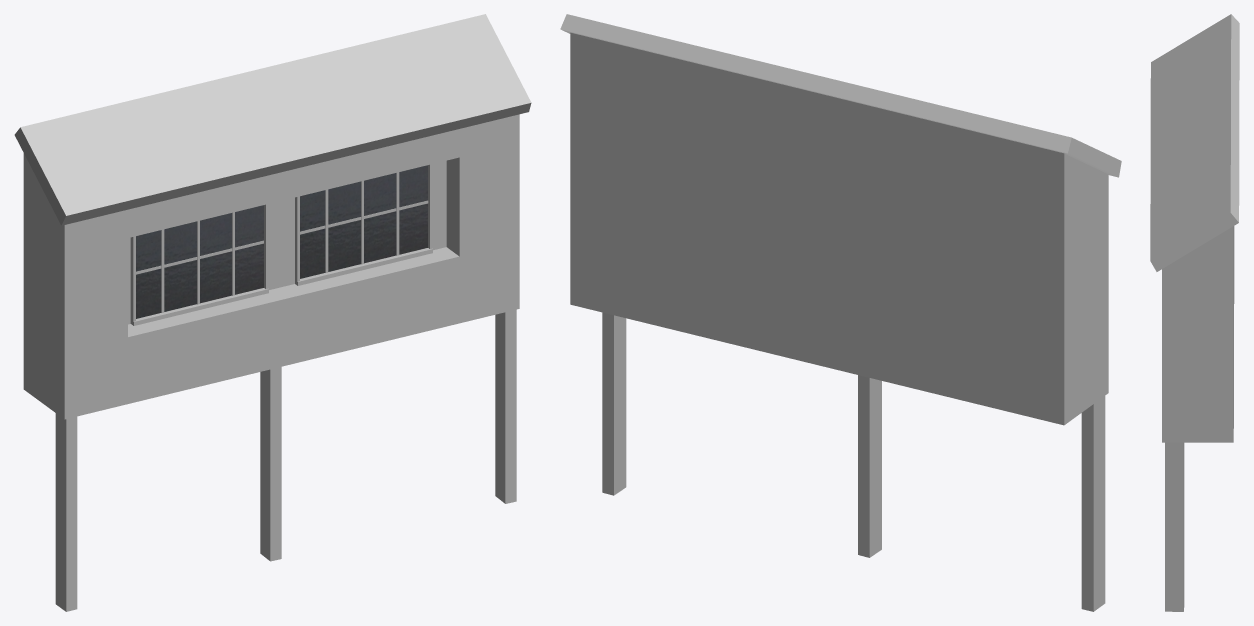
Rendered from apart_poor_14d.fbx.
The picture shows the model from 3 angles, left to right: view 1: azimuth 30°, elevation 25°; view 2: azimuth 150°, elevation 25°; view 3: azimuth 270°, elevation 25°; orthographic projection. The views are drawn at different scales.
Visible parts, largest first — view 1: apart_poor_14d; view 2: apart_poor_14d; view 3: apart_poor_14d.
Part boxes in pixels (x1,y1,x2,y2): apart_poor_14d: (14,14,531,611); apart_poor_14d: (560,14,1121,611); apart_poor_14d: (1150,14,1239,611).
Size of the model in its own units: 5.87 by 5.5 by 1.11.
